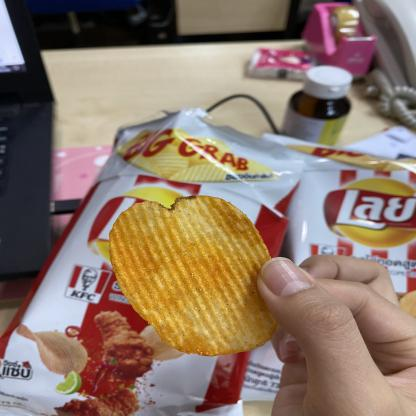potatochip: (0, 103, 317, 416), (251, 118, 415, 406)
